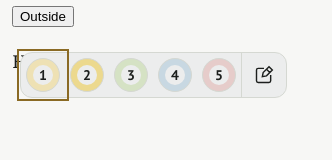
Test: useSelectionToolbar — saved-range restore (Plan 13-11 G6) › restores the saved range before creating from a toolbar button
This screenshot has width=332, height=160.
Expected: the element with class "selection-toolbar" is shown, [20,52,287,98]
// Activation: the restore branch re-enters the ONE creation path.
Click the button "1" at (43, 75), box [21,53,65,97]
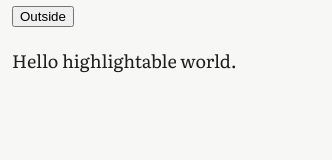
Expected: the element with class "selection-toolbar" is gone
